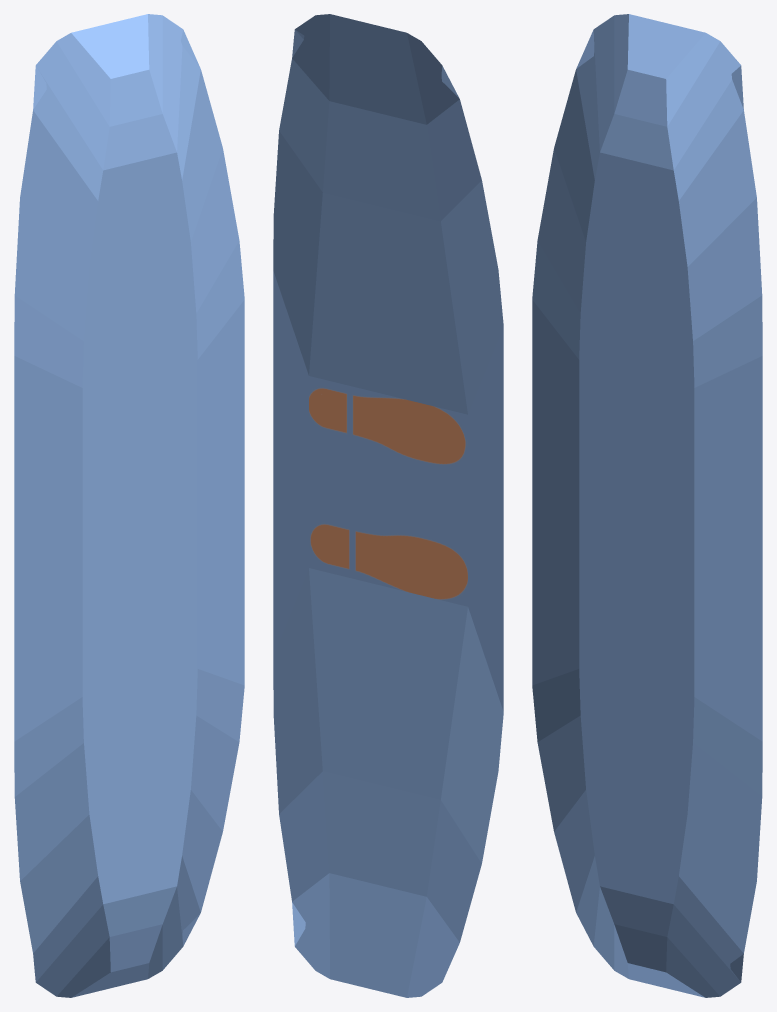
The model's file is Board2.6.1(Unity) 2.fbx.
The picture shows the model from 3 angles, left to right: view 1: azimuth 30°, elevation 25°; view 2: azimuth 150°, elevation 25°; view 3: azimuth 330°, elevation 25°; orthographic projection.
Parts seen in each view (by area): view 1: Cube; view 2: Cube; view 3: Cube.
Part boxes in pixels (x1,y1,x2,y2): Cube: (14,14,244,997); Cube: (273,14,503,997); Cube: (532,14,762,997).
Bounding box in the file's own units: 200 × 800 × 46.
